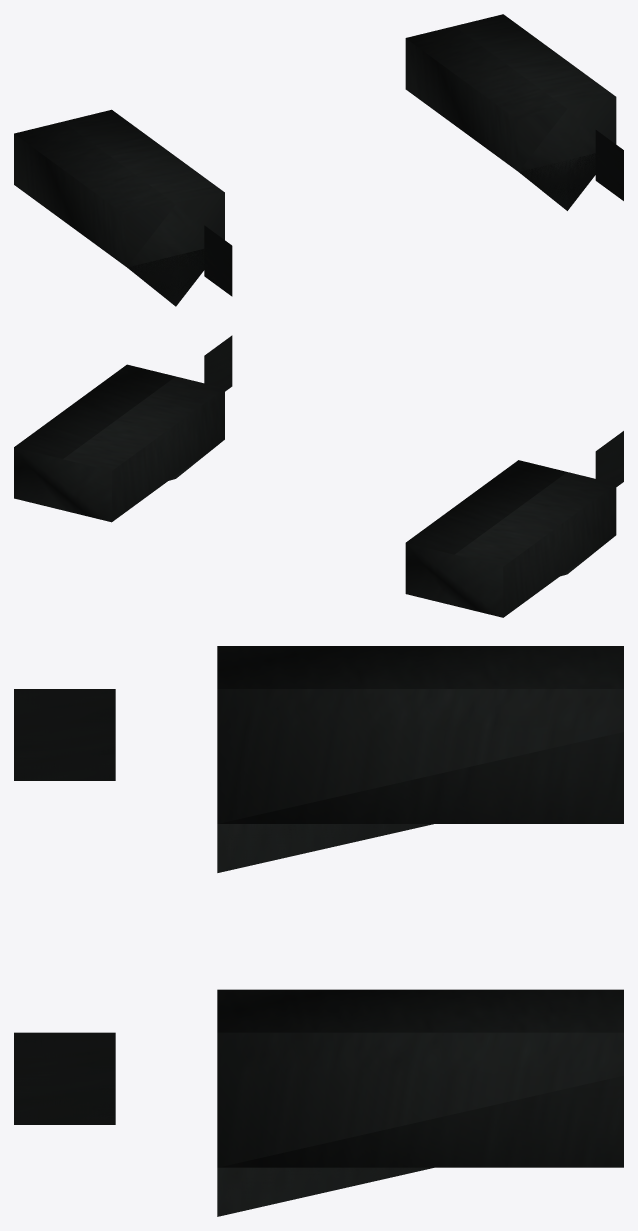
The picture shows the model from 3 angles, top to bottom: view 1: azimuth 30°, elevation 25°; view 2: azimuth 150°, elevation 25°; view 3: azimuth 270°, elevation 25°; orthographic projection. The views are drawn at different scales.
Size of the model in its own units: 1.7 by 0.34 by 1.02.
1 material, 1 textured.
